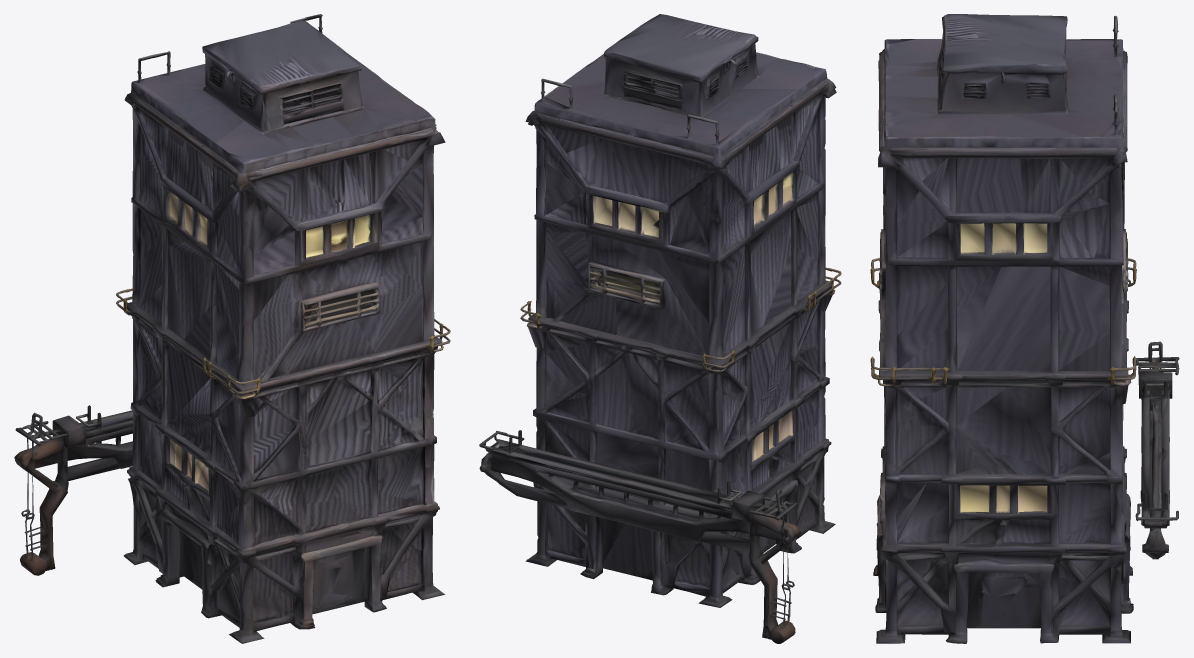
The model's file is bld_ind_foundryhall.fbx.
3 renders of one model, left to right at view 1: azimuth 30°, elevation 25°; view 2: azimuth 150°, elevation 25°; view 3: azimuth 270°, elevation 25°, orthographic. The views are drawn at different scales.
Parts seen in each view (by area): view 1: bld_ind_foundryhall_LOD0; view 2: bld_ind_foundryhall_LOD0; view 3: bld_ind_foundryhall_LOD0.
Part boxes in pixels (<box>): bld_ind_foundryhall_LOD0: <box>14,14,450,643</box>; bld_ind_foundryhall_LOD0: <box>479,14,841,643</box>; bld_ind_foundryhall_LOD0: <box>870,14,1179,643</box>.
Size of what is drawn, in the model's own units: 0.6318 by 0.9812 by 0.4935.
